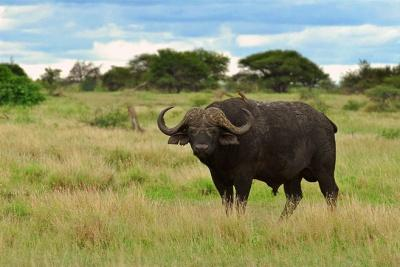buffalo: (156, 98, 340, 221)
